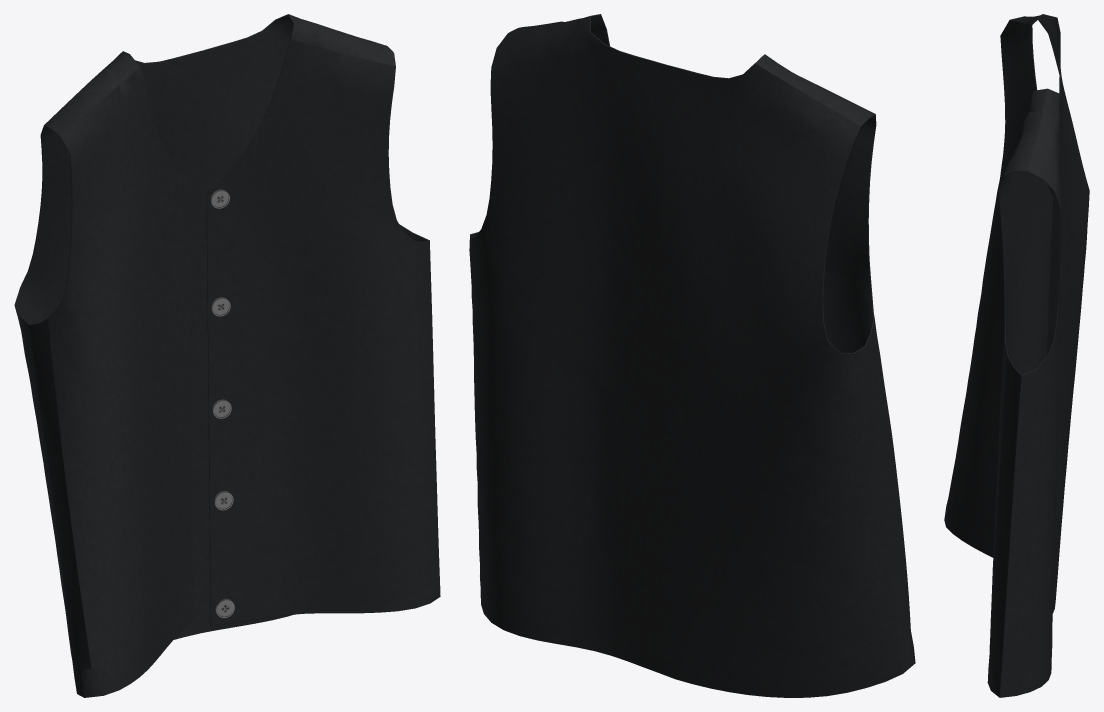
Rendered from FLG_13_04_5.fbx.
3 renders of one model, left to right at view 1: azimuth 30°, elevation 25°; view 2: azimuth 150°, elevation 25°; view 3: azimuth 270°, elevation 25°, orthographic. The views are drawn at different scales.
Parts seen in each view (by area): view 1: FLG_13_04_5; view 2: FLG_13_04_5; view 3: FLG_13_04_5.
Part boxes in pixels (x1,y1,x2,y2): FLG_13_04_5: [14, 14, 440, 697]; FLG_13_04_5: [469, 14, 915, 697]; FLG_13_04_5: [944, 14, 1089, 697].
Bounding box in the file's own units: 44.66 × 66.65 × 15.68.
